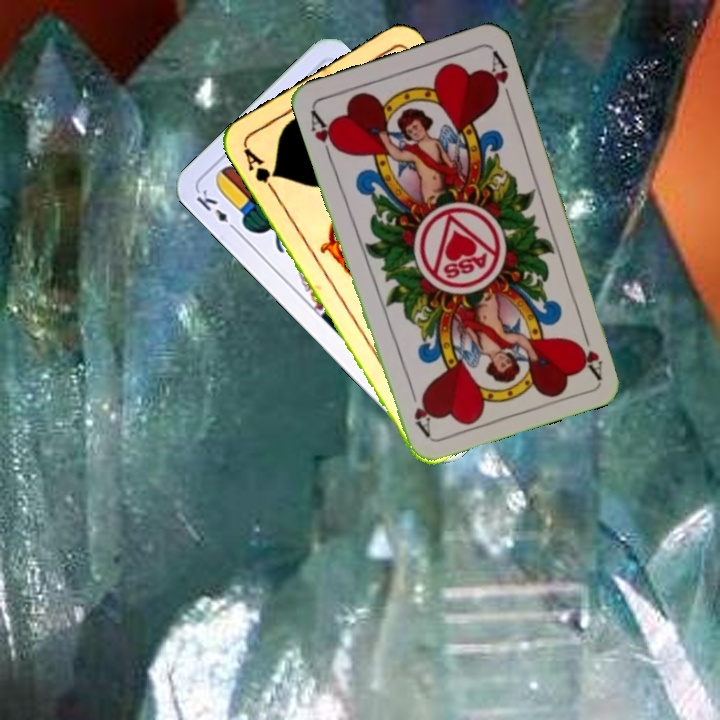EK: (191, 185, 241, 235)
GA: (239, 142, 280, 196)
HA: (306, 105, 343, 163), (573, 322, 605, 380)
